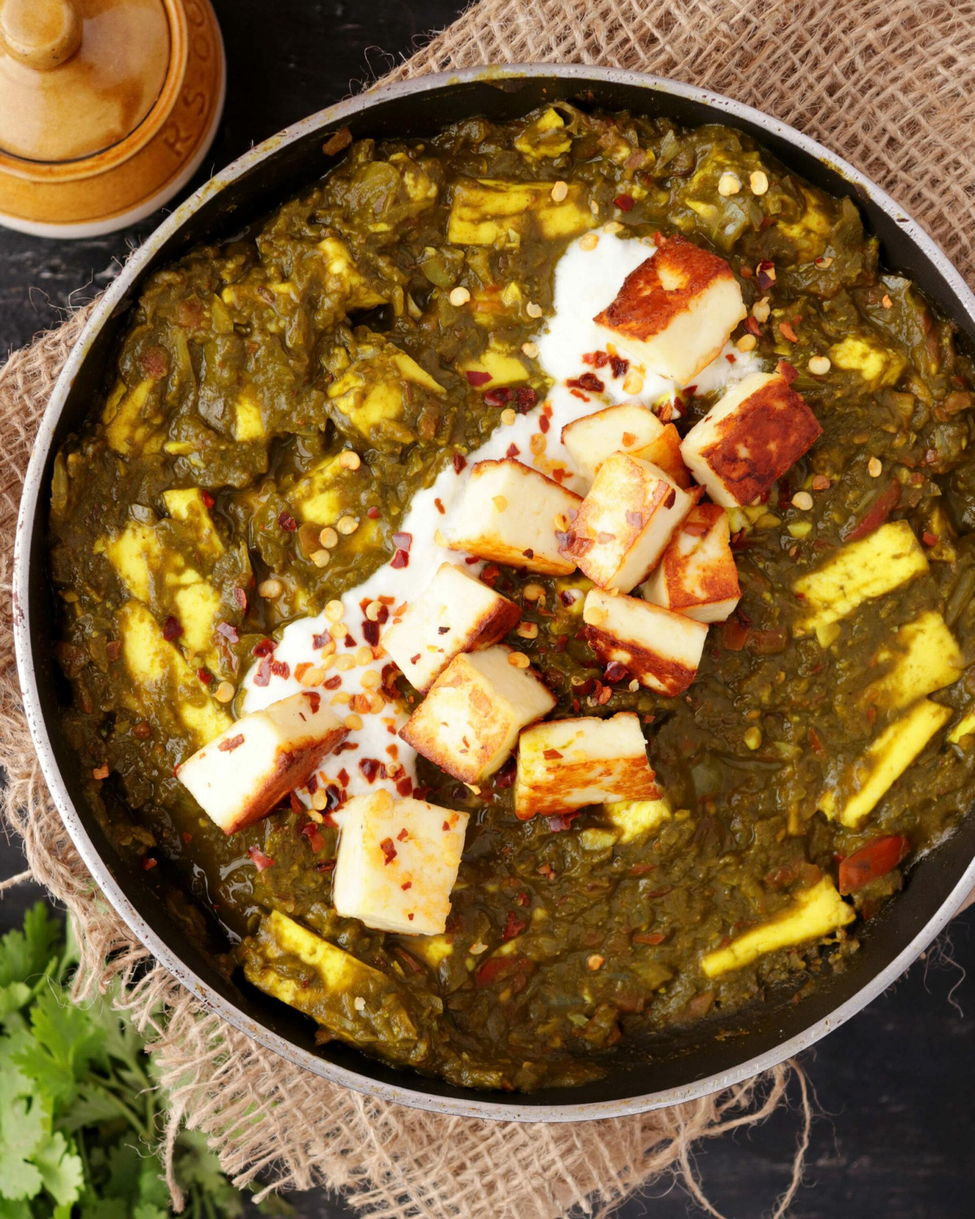PalakPaneer: (60, 107, 975, 1098)
